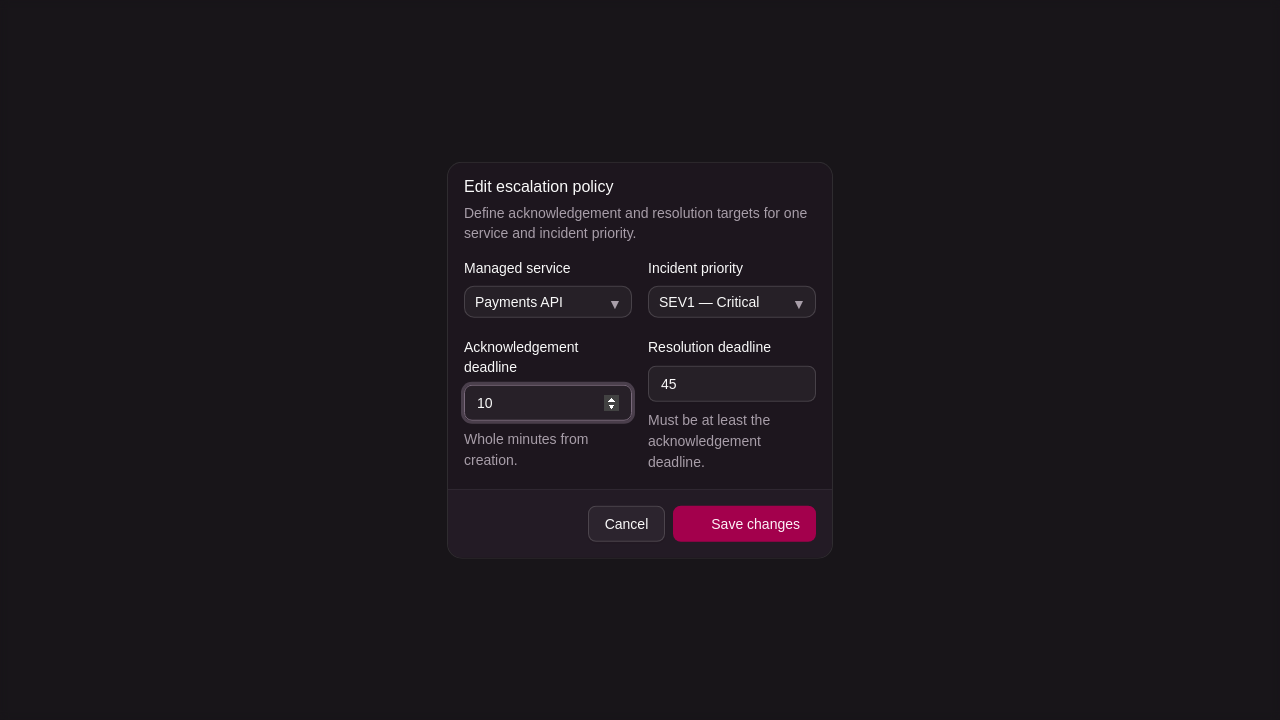
Test: PolicyFormDialog › keeps the form open when the server rejects a duplicate pair
The width and height of the screenshot is (1280, 720).
Click the button "Save changes".
click(745, 523)  # box [673,505,816,541]
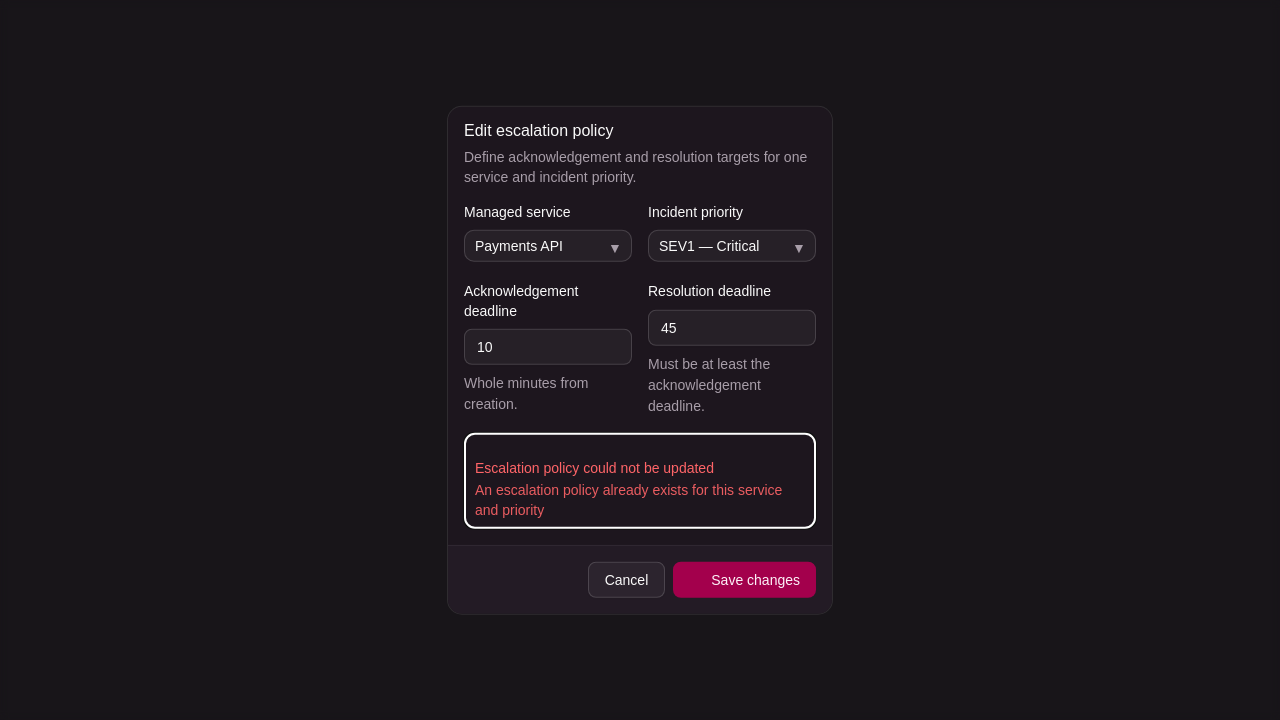
Check: the heading "Edit escalation policy" is shown, box [464,122,613,139]
Check: the text "An escalation policy already exists for this service and priority" is shown, box [475,479,805,519]
